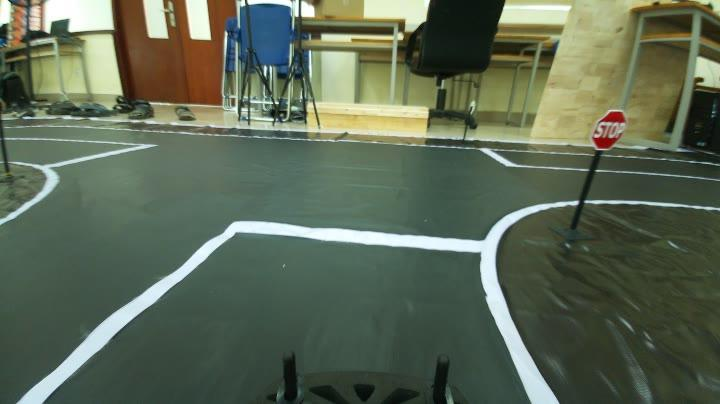stop: (588, 104, 630, 152)
